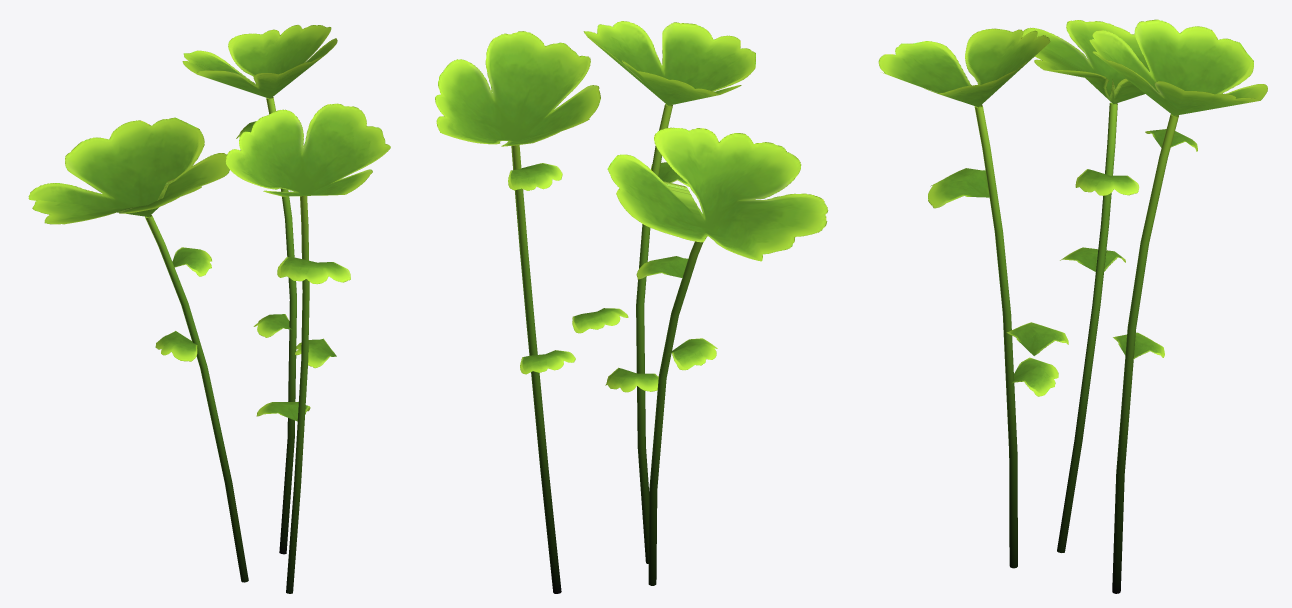
The model's file is Clover_1.gltf.
The picture shows the model from 3 angles, left to right: view 1: azimuth 30°, elevation 25°; view 2: azimuth 150°, elevation 25°; view 3: azimuth 270°, elevation 25°; orthographic projection. The views are drawn at different scales.
Parts seen in each view (by area): view 1: Clover_1; view 2: Clover_1; view 3: Clover_1.
Boxes of the visible parts, x1,y1,x2,y2 form: Clover_1: (28, 25, 390, 593); Clover_1: (435, 21, 828, 593); Clover_1: (878, 19, 1267, 593).
Bounding box in the file's own units: 0.7963 × 1.14 × 0.7639.
1 material, 1 textured.
